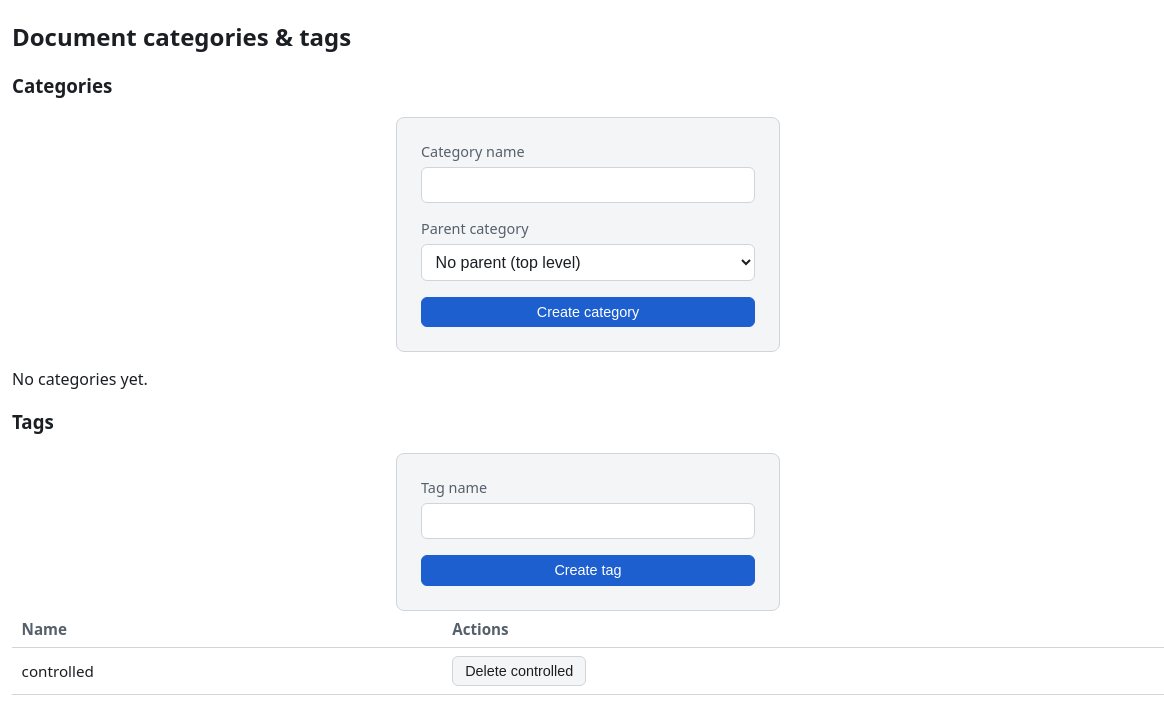
Test: DocumentCategoriesPage › deletes a tag
Expected: the text "controlled" is shown, [12,647,443,695]
Step 1. Click the button "Delete controlled" → (519, 671), box [452,656,586,686]
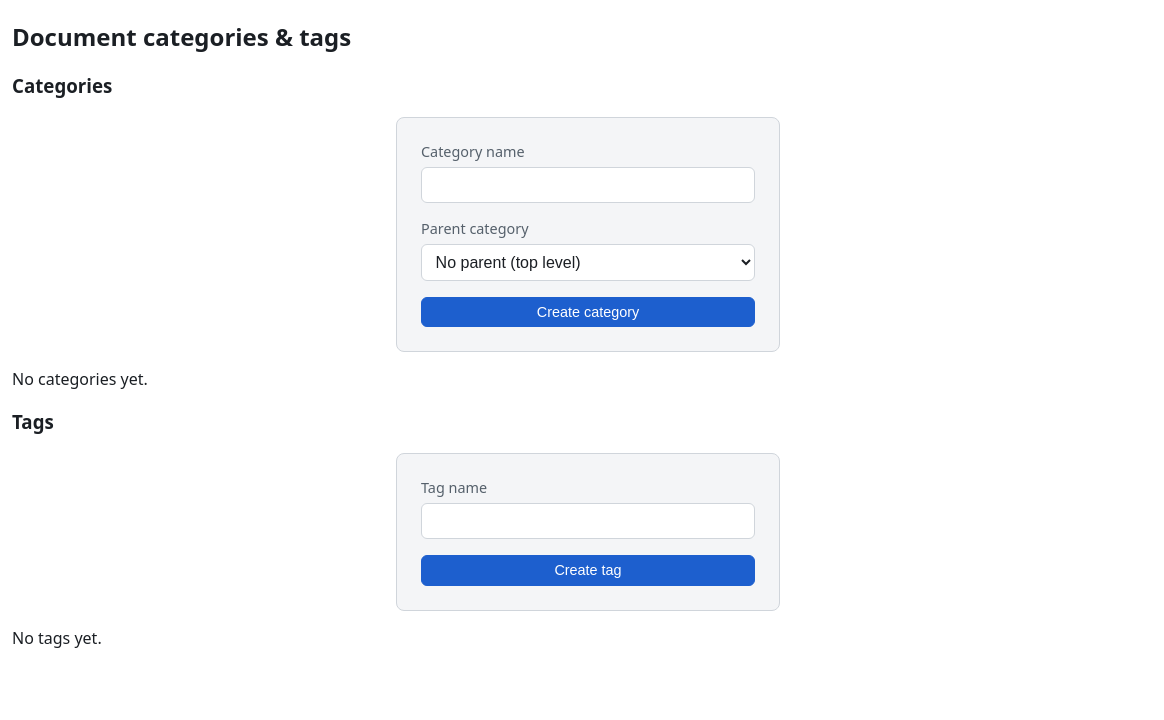
Expected: the text "controlled" is gone
